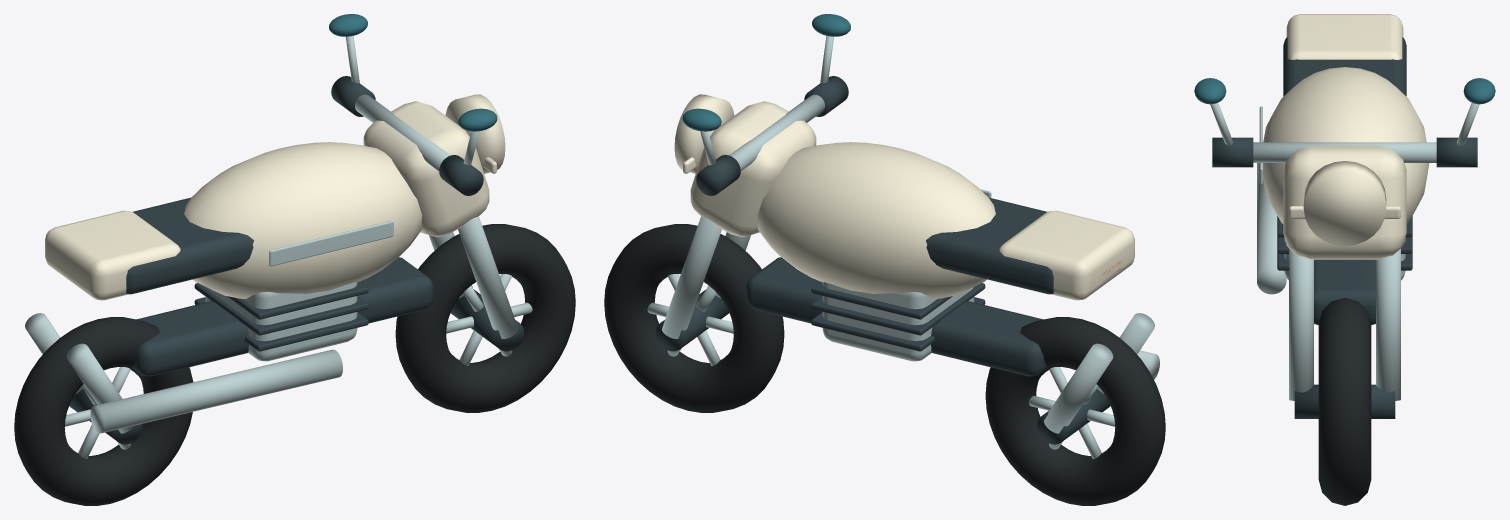
Rendered from retro.glb.
The picture shows the model from 3 angles, left to right: view 1: azimuth 30°, elevation 25°; view 2: azimuth 150°, elevation 25°; view 3: azimuth 270°, elevation 25°; orthographic projection. The views are drawn at different scales.
Parts seen in each view (by area): view 1: LR Fuel tank.002, LR Tire.007, LR Tire.006, LR Chassis.003, LR Front fairing.002, LR Exhaust.003, LR Tail fairing.002, LR Seat.003, LR Engine.003, LR Fork.014, LR Heritage tank stripe, LR Classic headlight (+12 smaller); view 2: LR Fuel tank.002, LR Tire.007, LR Tire.006, LR Chassis.003, LR Front fairing.002, LR Tail fairing.002, LR Seat.003, LR Engine.003, LR Fork.015, LR Fork.013, LR Classic headlight, LR Handlebar.003 (+10 smaller); view 3: LR Fuel tank.002, LR Tire.007, LR Front fairing.002, LR Classic headlight, LR Tail fairing.002, LR Fork.014, LR Fork.015, LR Chassis.003, LR Seat.003, LR Exhaust.003, LR Handlebar.003, LR Axle.007 (+8 smaller).
Part boxes in pixels (x1,y1,x2,y2): LR Fuel tank.002: (184, 142, 422, 298); LR Tire.007: (395, 224, 575, 412); LR Tire.006: (14, 317, 193, 505); LR Chassis.003: (132, 257, 433, 376); LR Front fairing.002: (363, 101, 489, 237); LR Exhaust.003: (90, 349, 342, 433); LR Tail fairing.002: (45, 210, 180, 300); LR Seat.003: (126, 197, 253, 294); LR Engine.003: (205, 282, 357, 361); LR Fork.014: (458, 216, 517, 338); LR Heritage tank stripe: (269, 221, 393, 266); LR Classic headlight: (445, 94, 505, 173); LR Fuel tank.002: (757, 142, 995, 298); LR Tire.007: (604, 224, 784, 412); LR Tire.006: (985, 317, 1165, 505); LR Chassis.003: (746, 257, 1047, 376); LR Front fairing.002: (690, 101, 816, 237); LR Tail fairing.002: (999, 210, 1134, 300); LR Seat.003: (926, 197, 1053, 294); LR Engine.003: (822, 282, 974, 361); LR Fork.015: (662, 216, 721, 338); LR Fork.013: (1044, 343, 1113, 433); LR Classic headlight: (674, 94, 734, 173); LR Handlebar.003: (729, 94, 824, 170); LR Fuel tank.002: (1263, 67, 1429, 223); LR Tire.007: (1318, 298, 1371, 505); LR Front fairing.002: (1283, 145, 1406, 259); LR Classic headlight: (1303, 161, 1386, 246); LR Tail fairing.002: (1286, 14, 1403, 59); LR Fork.014: (1289, 248, 1313, 400); LR Fork.015: (1376, 248, 1400, 400); LR Chassis.003: (1314, 259, 1375, 324); LR Seat.003: (1283, 37, 1406, 96); LR Exhaust.003: (1257, 163, 1286, 294); LR Handlebar.003: (1253, 142, 1436, 162); LR Axle.007: (1294, 384, 1395, 418).
Size of the model in its own units: 2.91 by 1.82 by 1.32.
